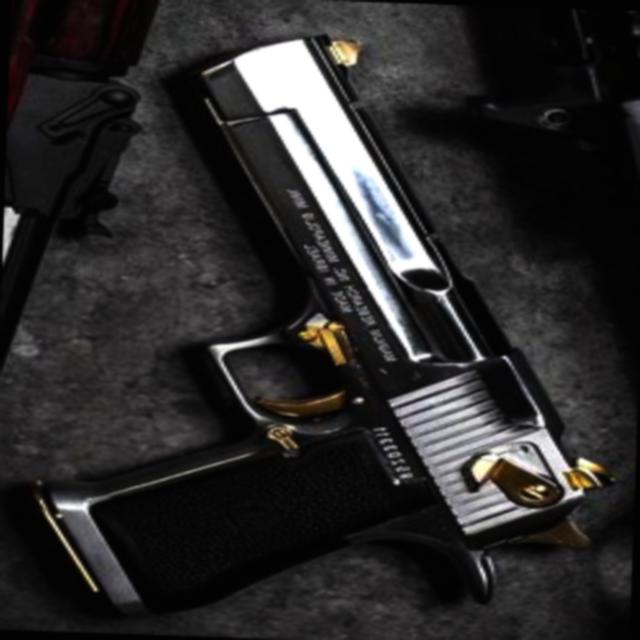semi automatic: (11, 3, 635, 640)
